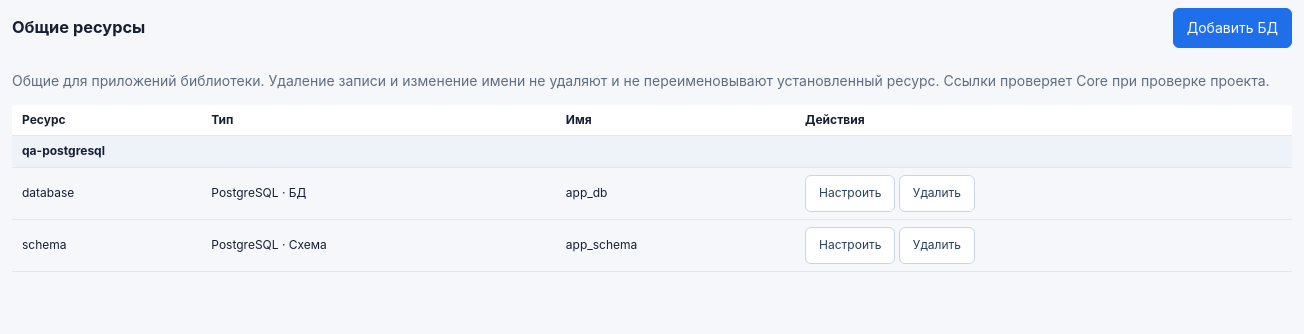
it: library resource table › does not stage duplicate resource IDs
The width and height of the screenshot is (1304, 334).
Click the button "Добавить БД": (1232, 28) [1173,8,1292,48]
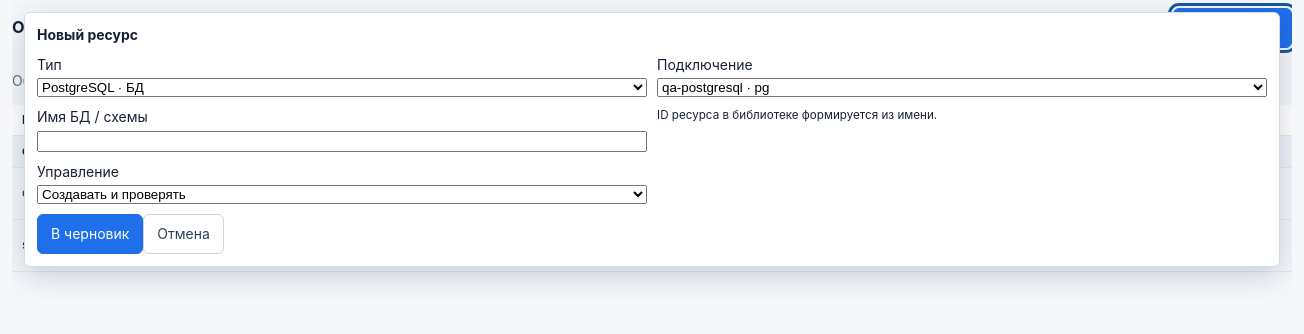
In the field labelled "Имя БД / схемы": (342, 141) [37,131,647,152], type "database"
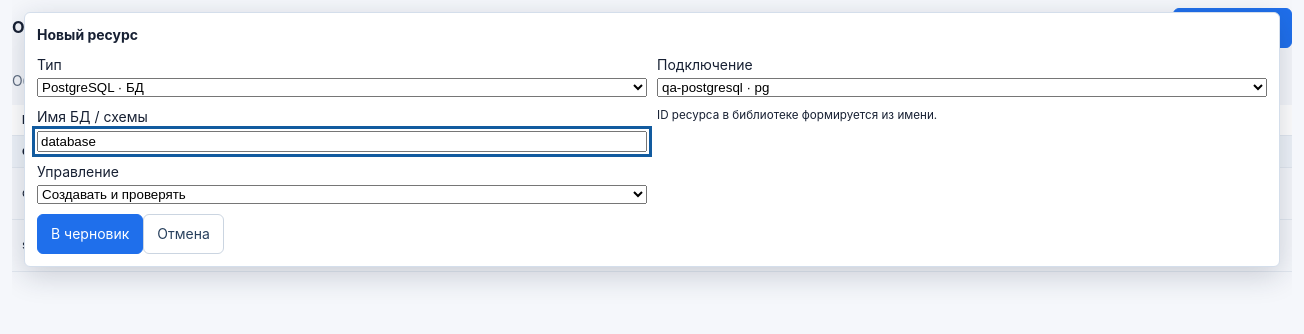
Click the button "В черновик": (90, 234) [37,214,143,254]
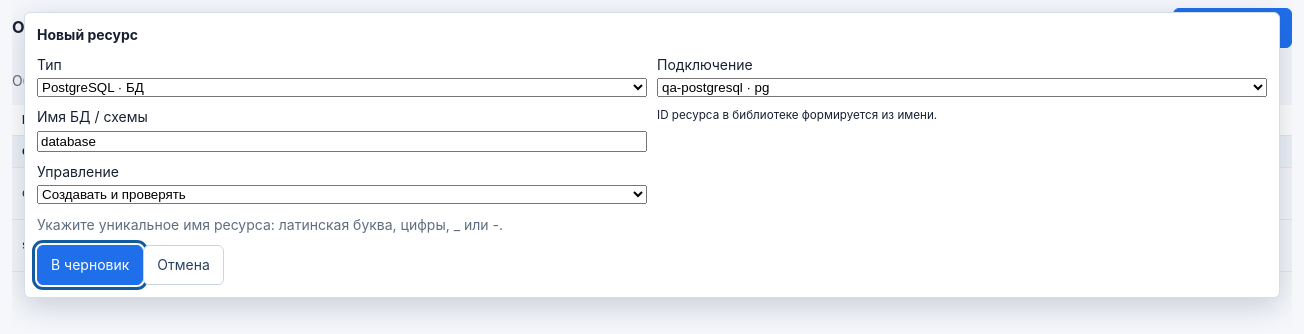
Expected: the message "Укажите уникальное имя ресурса: латинская буква, цифры, _ или -." is shown, [37,216,503,233]
